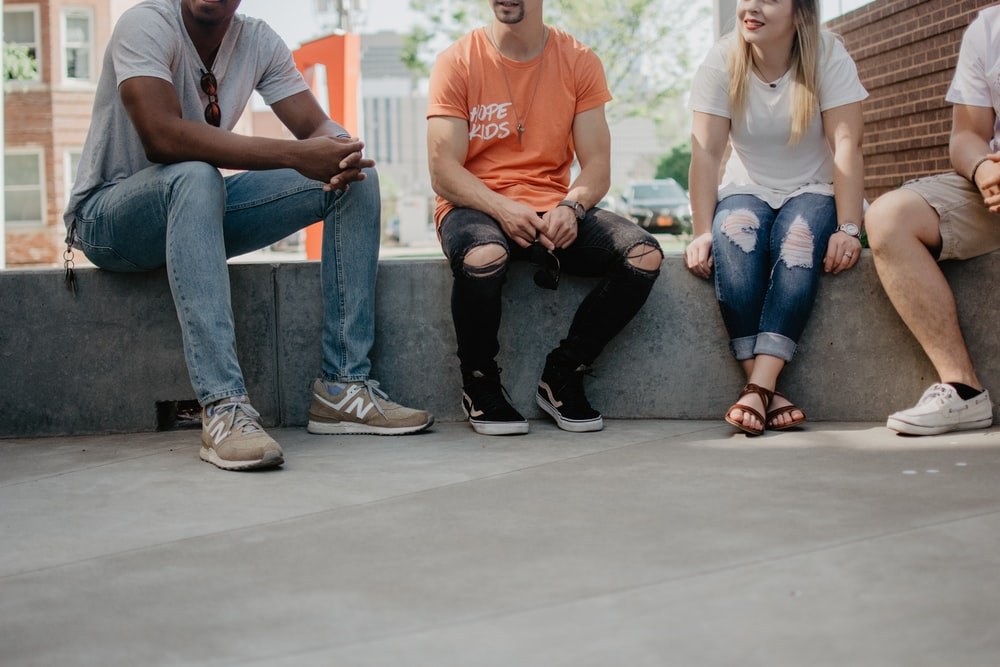face: (718, 1, 825, 66), (178, 1, 264, 46), (482, 1, 566, 43)
